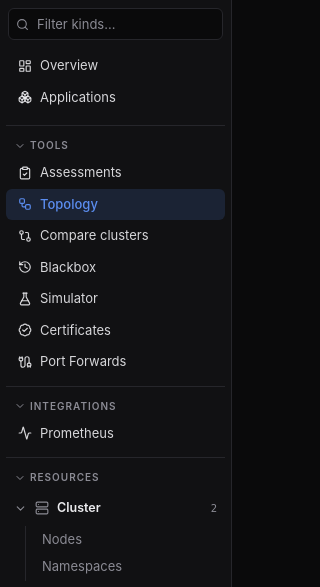
Test: ResourceNav layout › marks a collapsed section that contains the page you are on
The width and height of the screenshot is (320, 587).
Click the button "Tools".
click(116, 141)  # box [6,125,225,157]
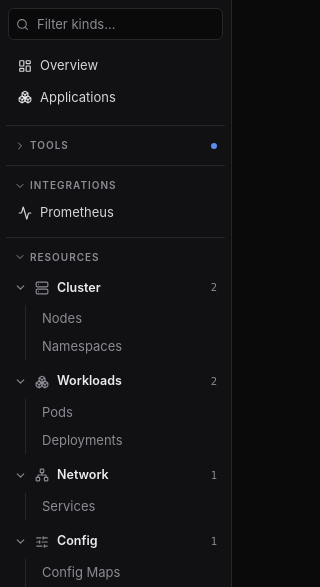
Expected: the element named "contains the current page" is shown, [211,142,217,148]
